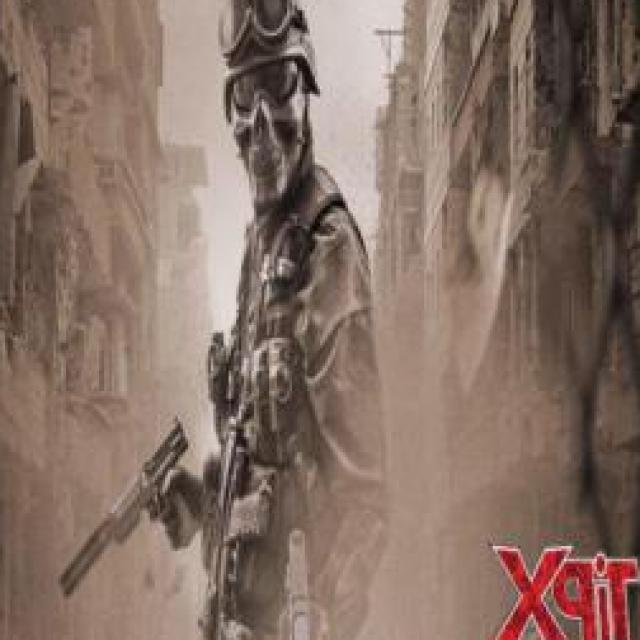pistol: (107, 409, 198, 548), (284, 518, 320, 640)
